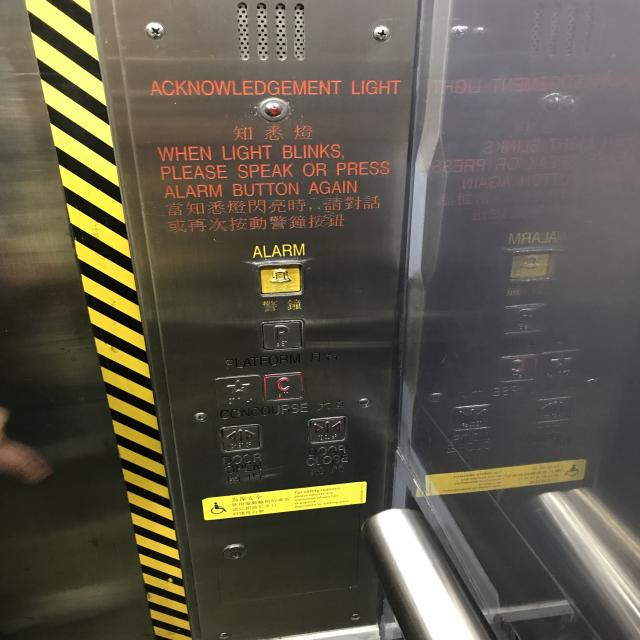C: (263, 371, 305, 403)
P: (258, 318, 304, 352)
alarm: (253, 260, 306, 298)
close: (307, 415, 349, 445)
indicator: (258, 95, 290, 122)
open: (220, 422, 262, 454)
s: (213, 373, 263, 409)
